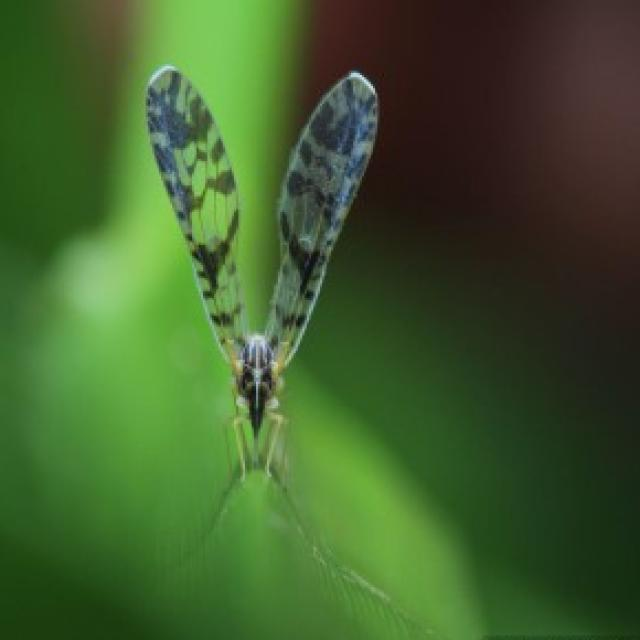brown plant hopper: (146, 66, 391, 607)
